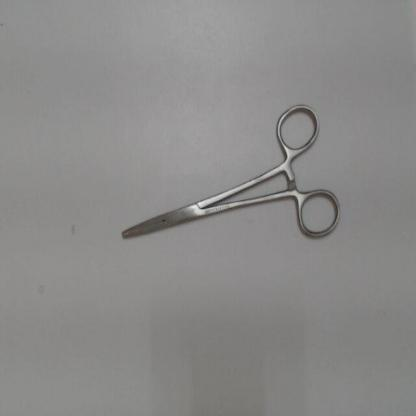Mayo Needle Holder: (108, 97, 348, 252)
